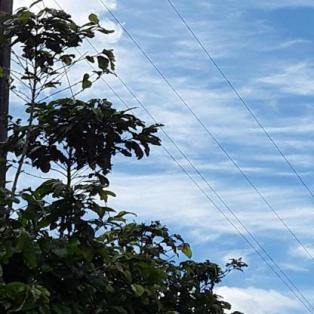Poste: (0, 0, 41, 263)
